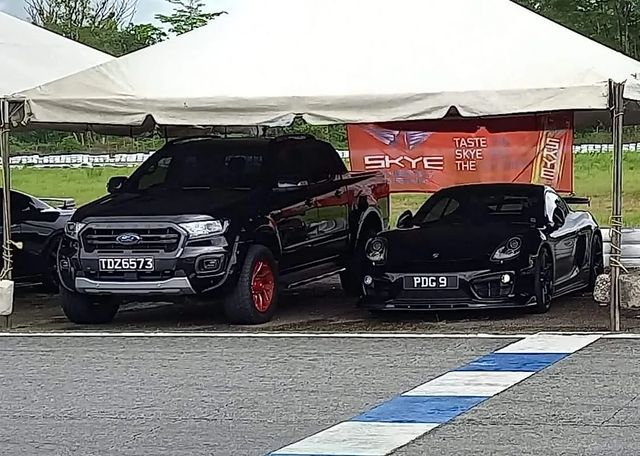License-Plate: (98, 257, 153, 269), (404, 275, 456, 287)
